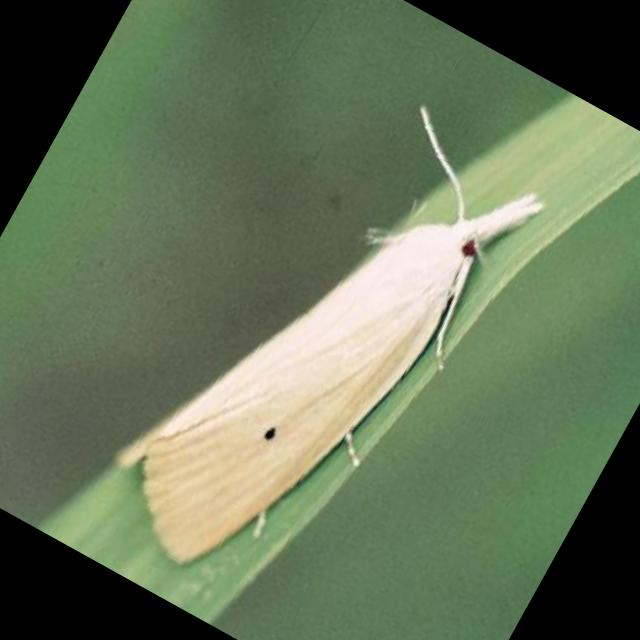stem-borer: (77, 67, 556, 640)
